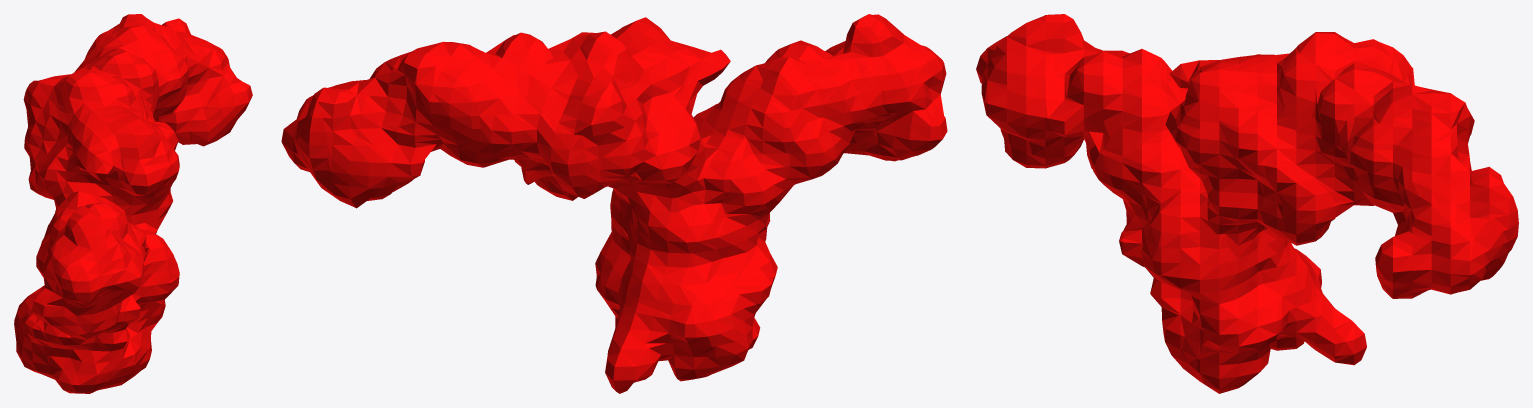
File: htpG_coarse.dae
3 renders of one model, left to right at view 1: azimuth 30°, elevation 25°; view 2: azimuth 150°, elevation 25°; view 3: azimuth 270°, elevation 25°, orthographic. The views are drawn at different scales.
Visible parts, largest first — view 1: htpG; view 2: htpG; view 3: htpG.
Part boxes in pixels (<box>): htpG: <box>14,14,252,393</box>; htpG: <box>281,14,947,393</box>; htpG: <box>976,14,1518,393</box>.
Size of the model in its own units: 139 by 103 by 141.
